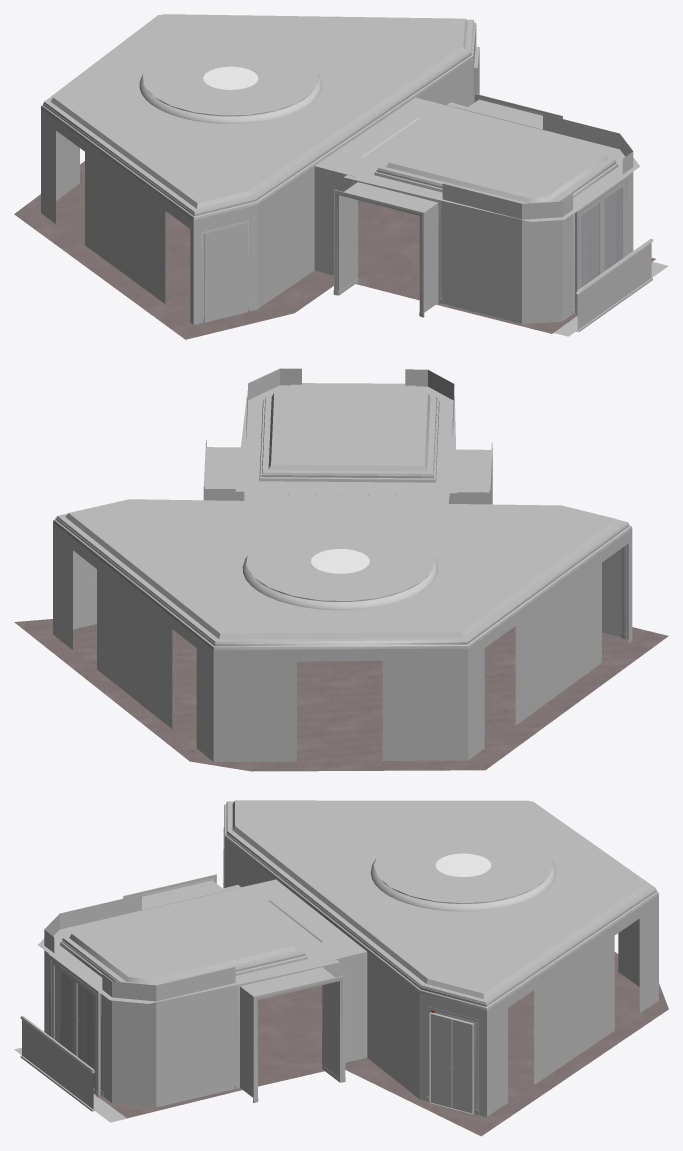
The model's file is CR_CenterRoom.fbx.
3 views of the same model, one above another, from view 1: azimuth 30°, elevation 25°; view 2: azimuth 150°, elevation 25°; view 3: azimuth 270°, elevation 25° (orthographic). The views are drawn at different scales.
Visible parts, largest first — view 1: polySurface98, polySurface76, polySurface83, polySurface86, polySurface4; view 2: polySurface98, polySurface83, polySurface86, polySurface76; view 3: polySurface98, polySurface76, polySurface83, polySurface86, polySurface4.
Boxes of the visible parts, x1,y1,x2,y2 form: polySurface98: (14, 14, 668, 339); polySurface76: (200, 40, 628, 322); polySurface83: (41, 15, 618, 220); polySurface86: (139, 41, 321, 123); polySurface4: (581, 187, 621, 287); polySurface98: (14, 368, 668, 771); polySurface83: (53, 385, 631, 650); polySurface86: (242, 521, 437, 610); polySurface76: (73, 383, 626, 639); polySurface98: (14, 800, 668, 1136); polySurface76: (48, 827, 479, 1114); polySurface83: (60, 801, 658, 1010); polySurface86: (370, 827, 555, 911); polySurface4: (55, 966, 94, 1088).
Bounding box in the file's own units: 1189 × 303 × 1406.
